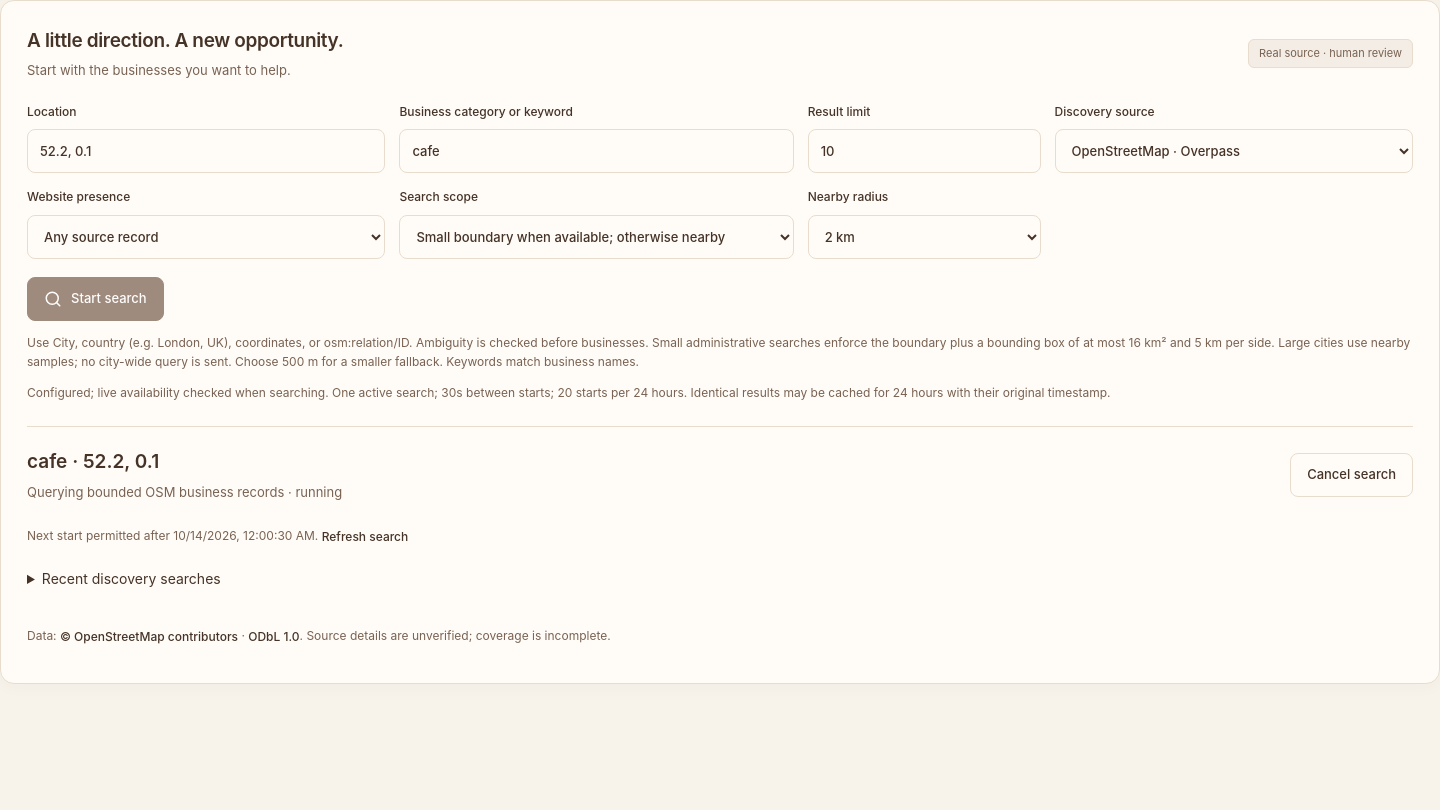
Test: confirms cancellation through the API without showing success results
What coordinates should you click on to do the following:
click the button "Cancel search"
I would click on:
 (1352, 475)
Its box is 1290,453 -> 1413,497.
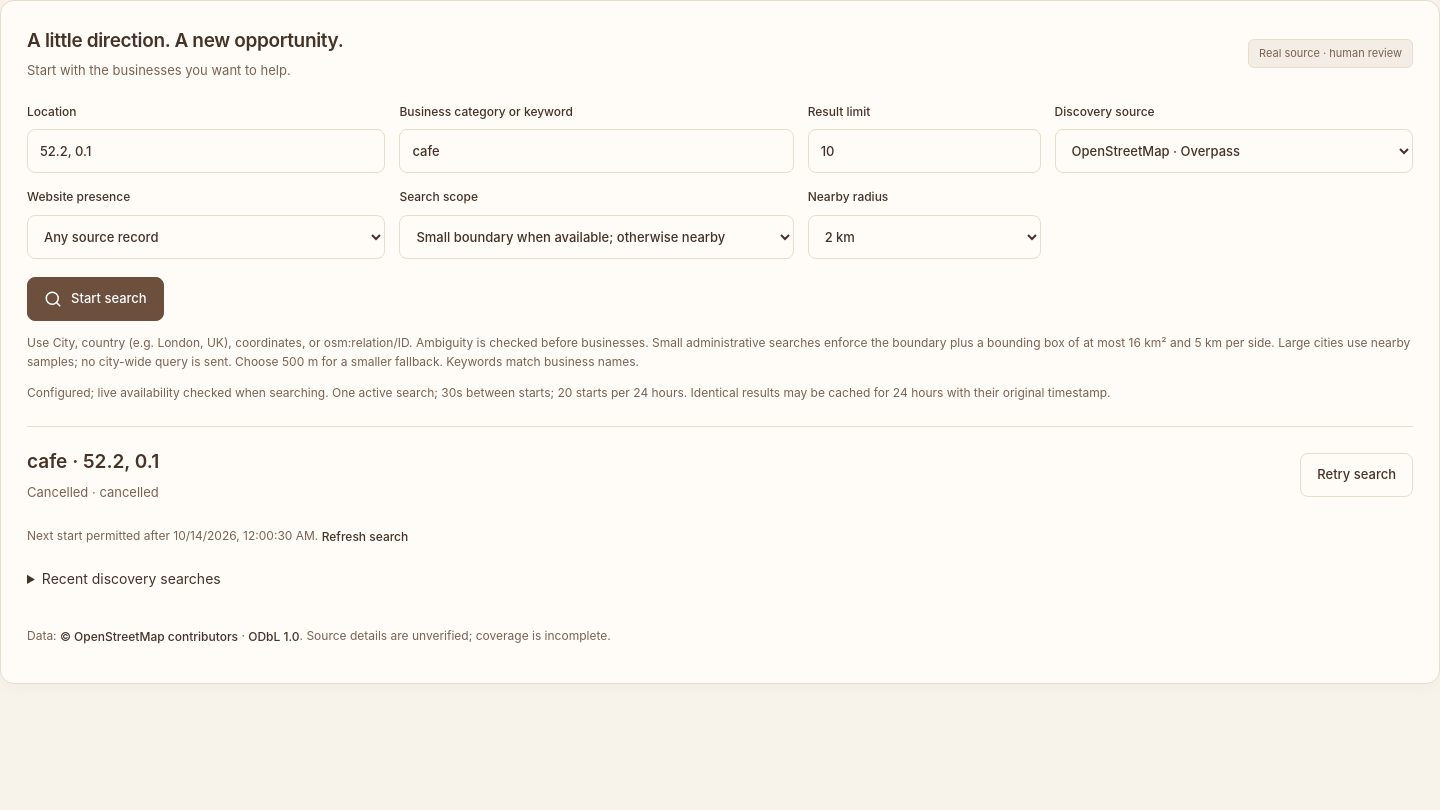
Expected: the text "Cancelled · cancelled" is shown, 27,482 -> 159,502
